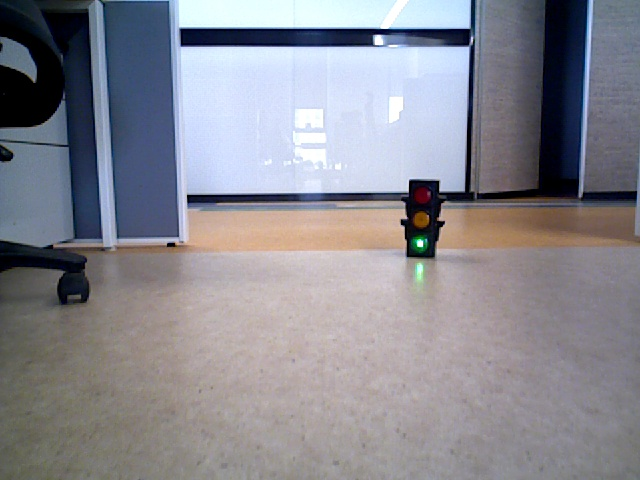green: (406, 180, 433, 254)
